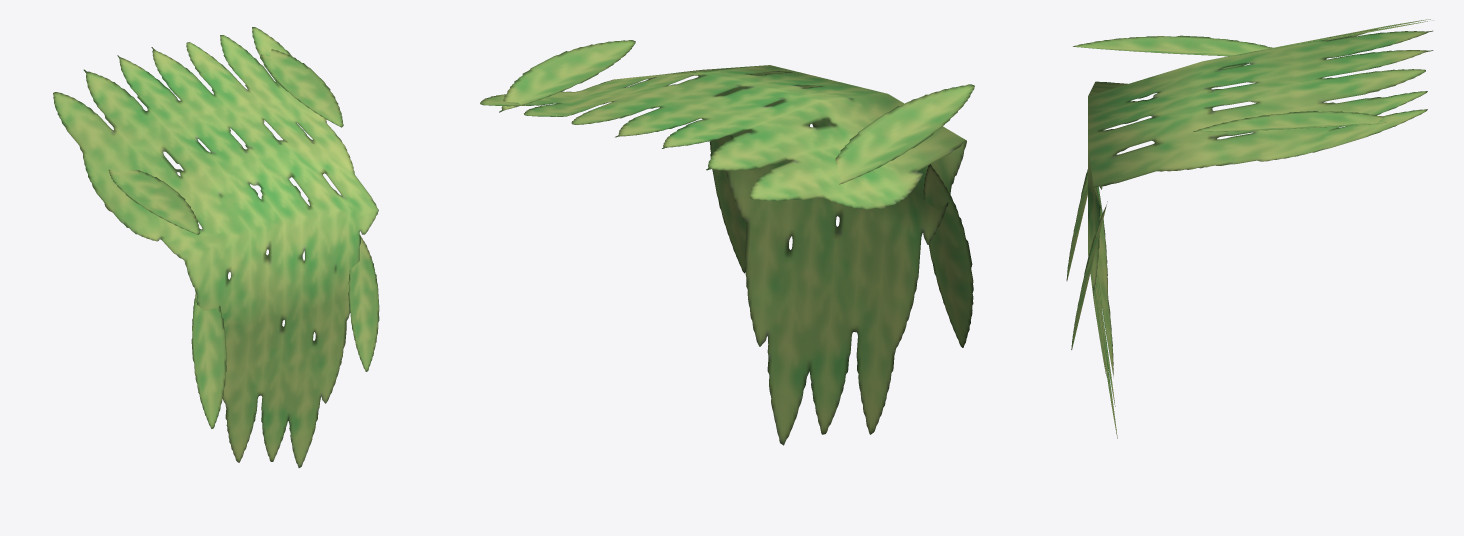
File: LeafSetA_21.fbx
3 renders of one model, left to right at view 1: azimuth 30°, elevation 25°; view 2: azimuth 150°, elevation 25°; view 3: azimuth 270°, elevation 25°, orthographic. The views are drawn at different scales.
Visible parts, largest first — view 1: LeafSetA_21; view 2: LeafSetA_21; view 3: LeafSetA_21.
Boxes of the visible parts, x1,y1,x2,y2 form: LeafSetA_21: (53, 27, 379, 467); LeafSetA_21: (480, 40, 974, 445); LeafSetA_21: (1066, 19, 1433, 438).
Bounding box in the file's own units: 0.4242 × 0.5427 × 0.4835.
